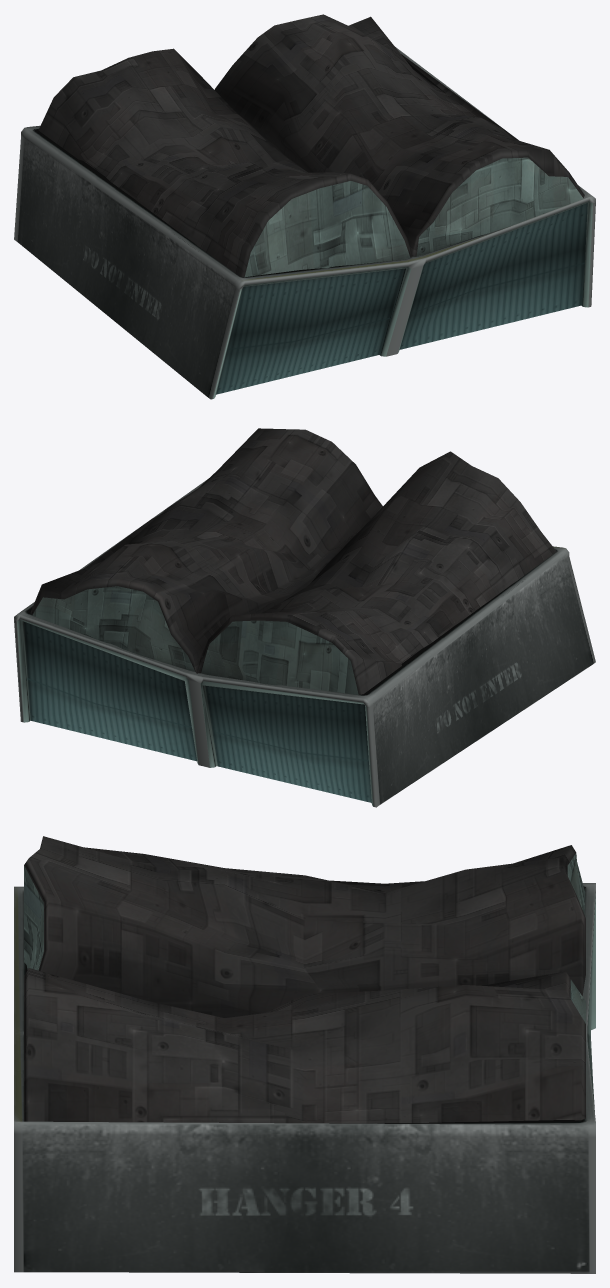
Rendered from Area51_tower_area51base_d3.obj.
3 renders of one model, top to bottom at view 1: azimuth 30°, elevation 25°; view 2: azimuth 150°, elevation 25°; view 3: azimuth 270°, elevation 25°, orthographic. The views are drawn at different scales.
Visible parts, largest first — view 1: Area51_tower_area51base_d0; view 2: Area51_tower_area51base_d0; view 3: Area51_tower_area51base_d0.
Boxes of the visible parts, x1=… form: Area51_tower_area51base_d0: x1=14, y1=14, x2=595, y2=399; Area51_tower_area51base_d0: x1=14, y1=428, x2=595, y2=807; Area51_tower_area51base_d0: x1=14, y1=836, x2=595, y2=1273.
Size of the model in its own units: 0.077 by 0.0352 by 0.0725.
